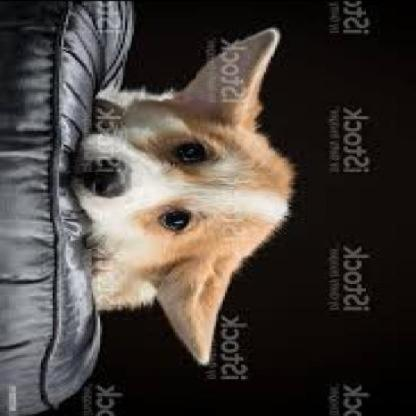dog: (70, 26, 296, 365)
